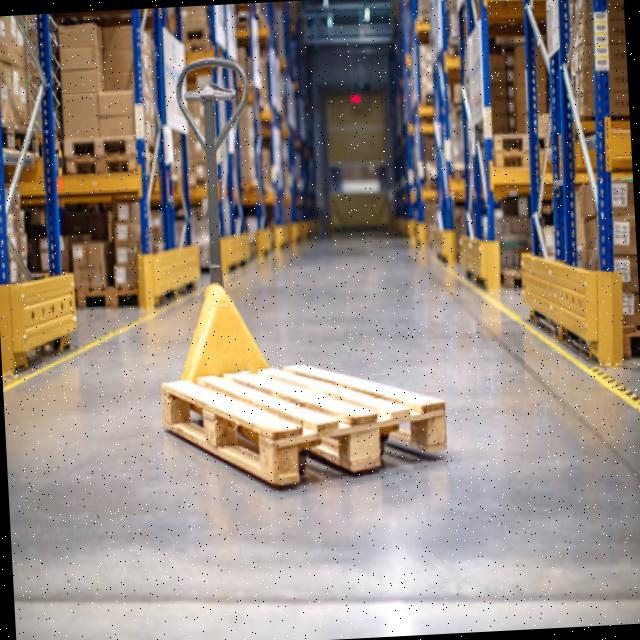Wooden-Pallets: (161, 357, 449, 489), (62, 126, 141, 166)
